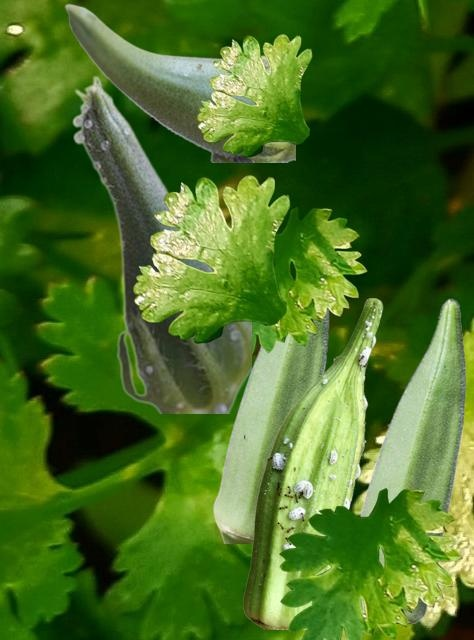okra: (71, 75, 250, 412), (243, 298, 382, 628), (64, 3, 294, 161), (359, 298, 465, 622), (213, 276, 328, 542)
